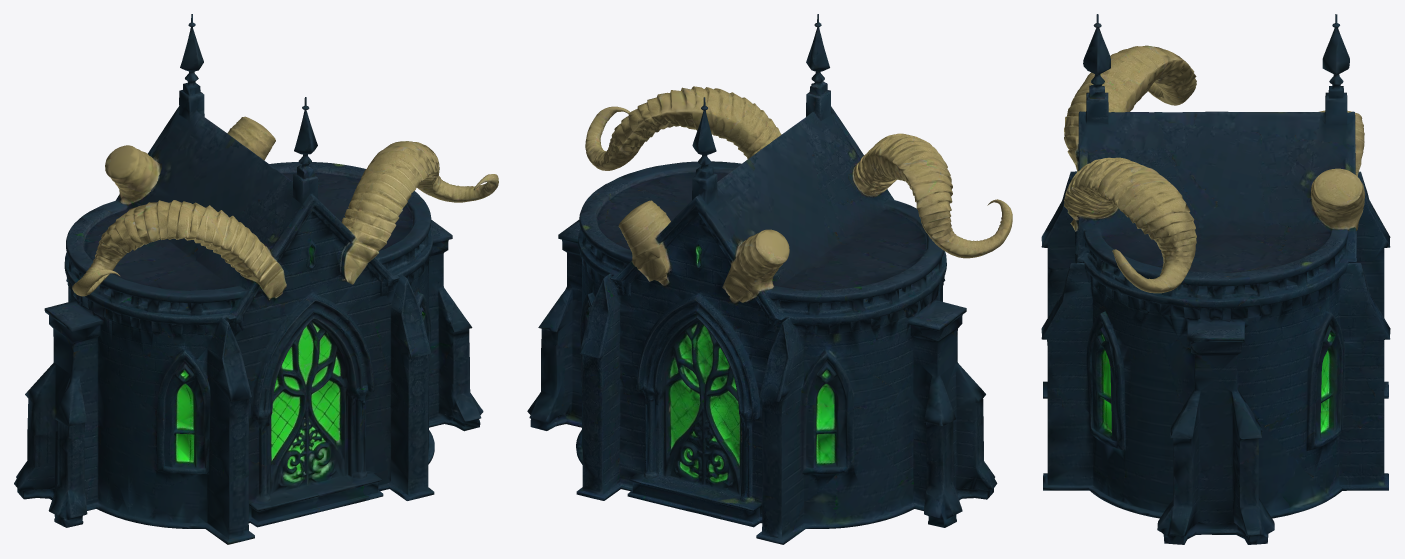
Rendered from demon-church.glb.
3 renders of one model, left to right at view 1: azimuth 30°, elevation 25°; view 2: azimuth 150°, elevation 25°; view 3: azimuth 270°, elevation 25°, orthographic. The views are drawn at different scales.
Bounding box in the file's own units: 1.9 × 1.7 × 1.27.
Materials: 1 (1 with a texture image).
